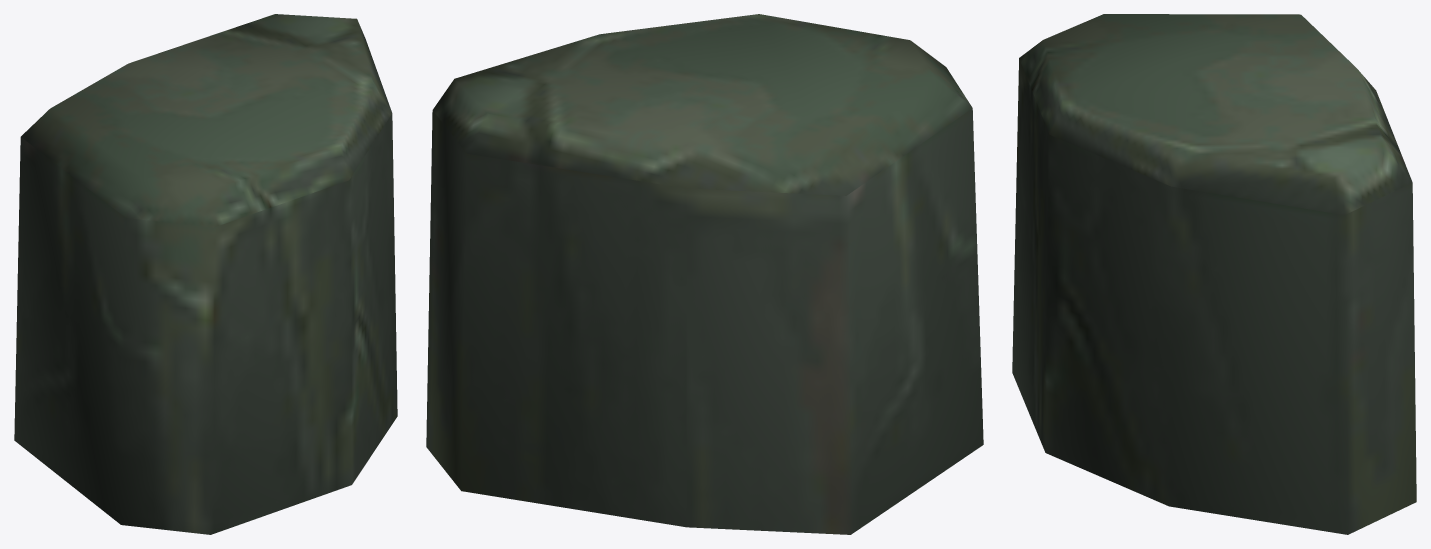
File: 0069_HT_MJ_ShiTou09.glb
3 views of the same model, side by side, from view 1: azimuth 30°, elevation 25°; view 2: azimuth 150°, elevation 25°; view 3: azimuth 270°, elevation 25° (orthographic). The views are drawn at different scales.
Bounding box in the file's own units: 2.2 × 1.86 × 1.96.
Materials: 1 (1 with a texture image).
